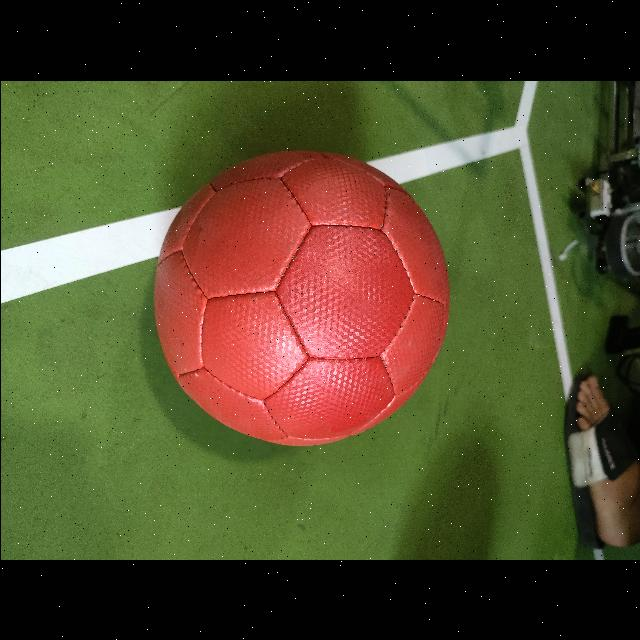R: (152, 150, 448, 444)
